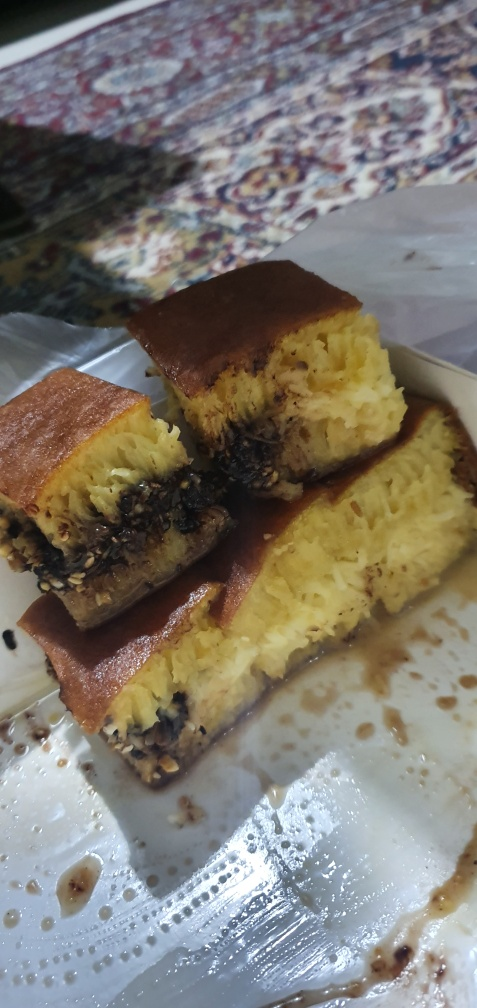martabak manis: (114, 258, 416, 463), (1, 356, 232, 603), (18, 583, 237, 814), (208, 482, 358, 697), (339, 414, 477, 637)
